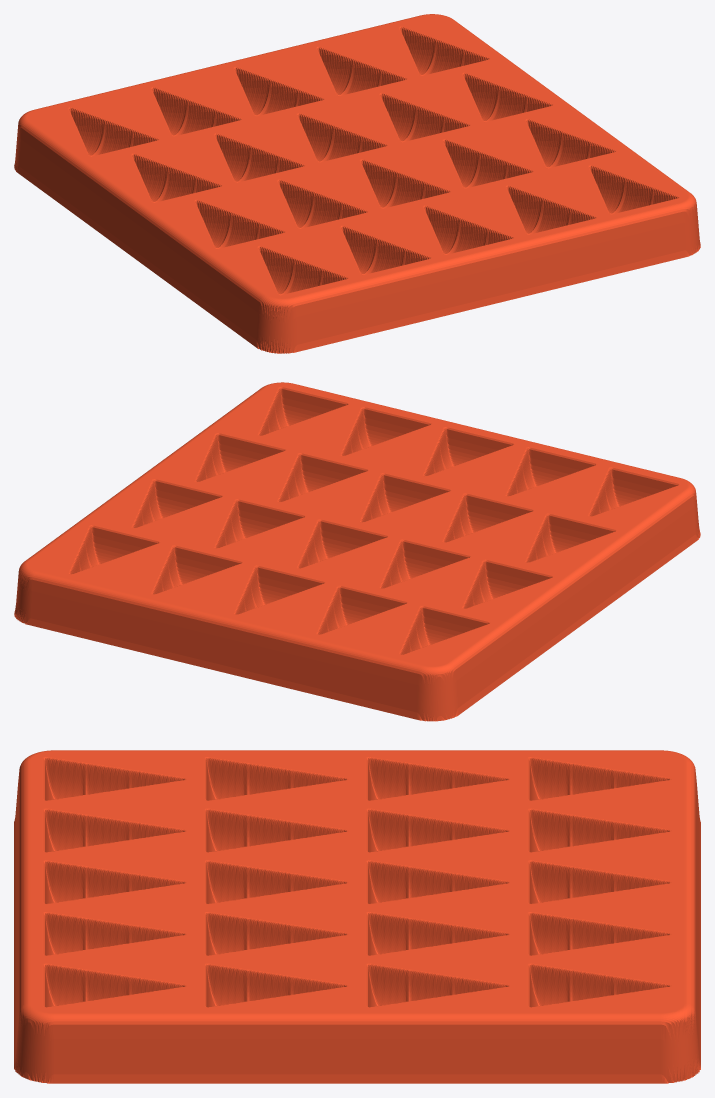
File: mold.glb
3 renders of one model, top to bottom at view 1: azimuth 30°, elevation 25°; view 2: azimuth 150°, elevation 25°; view 3: azimuth 270°, elevation 25°, orthographic. The views are drawn at different scales.
Visible parts, largest first — view 1: geometry_0; view 2: geometry_0; view 3: geometry_0.
Part boxes in pixels (left/top/right/bottom): geometry_0: left=14, top=14, right=700, bottom=353; geometry_0: left=14, top=382, right=700, bottom=721; geometry_0: left=14, top=750, right=700, bottom=1083.
Size of the model in its own units: 0.1483 by 0.0159 by 0.1563.
